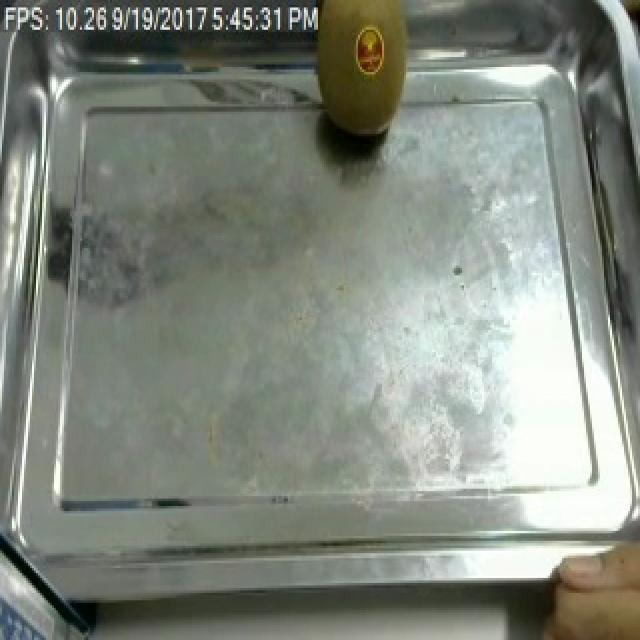Fruit: (302, 0, 426, 151)
